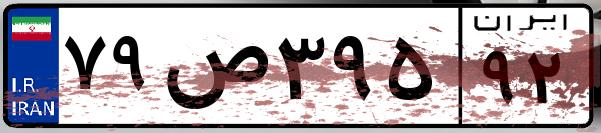2: (525, 38, 570, 115)
3: (270, 28, 330, 110)
5: (385, 28, 445, 110)
7: (57, 26, 110, 100)
9: (330, 28, 385, 110), (475, 38, 525, 113), (110, 28, 158, 98)
ص: (158, 20, 270, 120)
